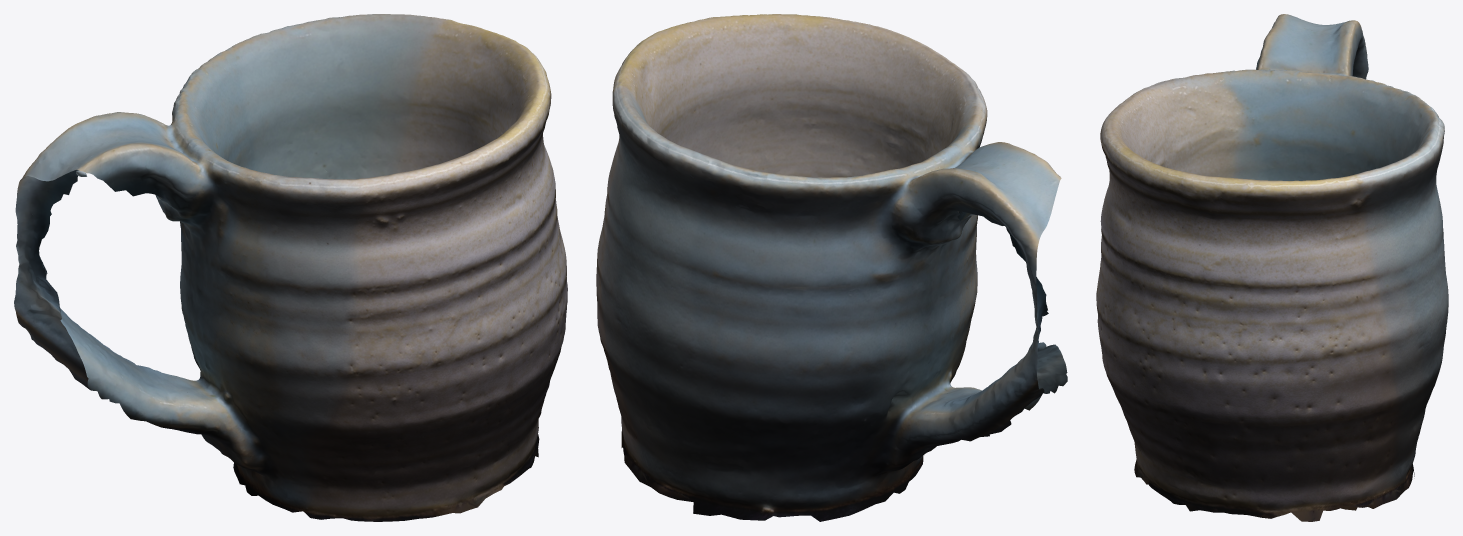
3 renders of one model, left to right at view 1: azimuth 30°, elevation 25°; view 2: azimuth 150°, elevation 25°; view 3: azimuth 270°, elevation 25°, orthographic. The views are drawn at different scales.
Parts seen in each view (by area): view 1: Object_2; view 2: Object_2; view 3: Object_2.
Part boxes in pixels (x1,y1,x2,y2): Object_2: [14, 14, 567, 521]; Object_2: [596, 14, 1067, 521]; Object_2: [1096, 14, 1448, 521].
Bounding box in the file's own units: 0.8851 × 0.6999 × 0.6252.
Materials: 1 (1 with a texture image).
